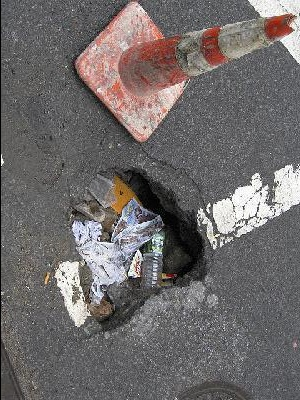pothole: (67, 163, 211, 333)
